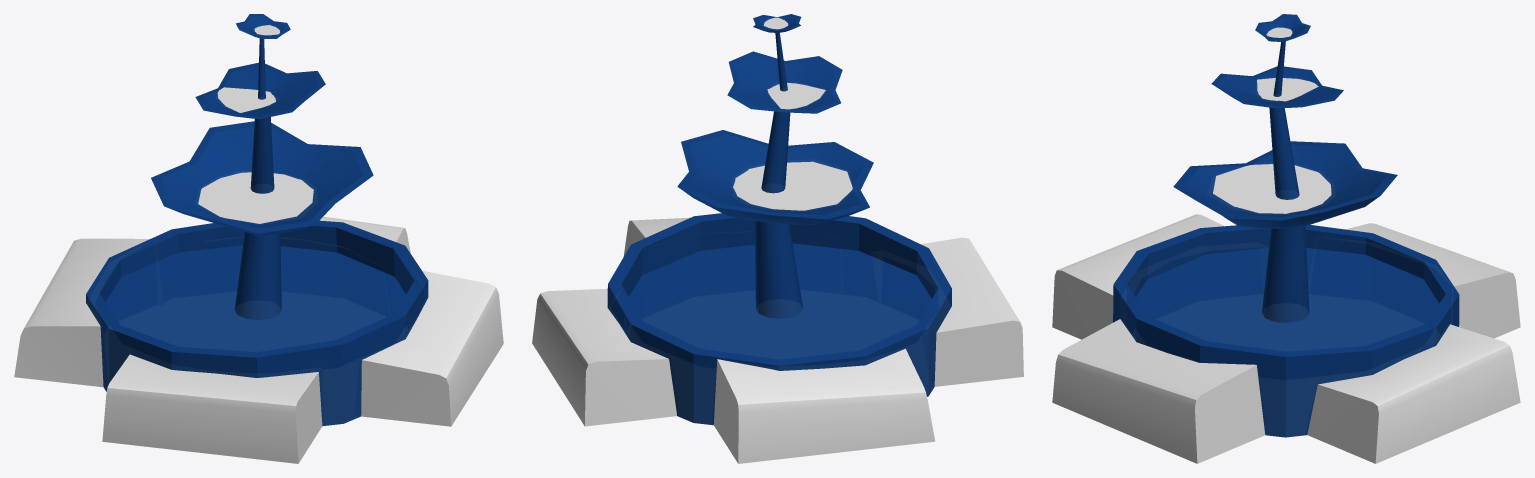
The model's file is fountain.FBX.
The picture shows the model from 3 angles, left to right: view 1: azimuth 30°, elevation 25°; view 2: azimuth 150°, elevation 25°; view 3: azimuth 270°, elevation 25°; orthographic projection.
Parts seen in each view (by area): view 1: Cylinder003, Box044, Box043, Box042, Cylinder004, Cylinder005, Box045; view 2: Cylinder003, Box042, Box045, Box044, Cylinder004, Cylinder005, Box043; view 3: Cylinder003, Box043, Box045, Box044, Box042, Cylinder004, Cylinder005.
Boxes of the visible parts, x1=… form: Cylinder003: x1=86, y1=14, x2=428, y2=426; Box044: x1=102, y1=354, x2=322, y2=463; Box043: x1=361, y1=270, x2=503, y2=426; Box042: x1=14, y1=238, x2=149, y2=387; Cylinder004: x1=198, y1=172, x2=313, y2=223; Cylinder005: x1=217, y1=87, x2=275, y2=112; Box045: x1=320, y1=216, x2=410, y2=253; Cylinder003: x1=607, y1=14, x2=951, y2=425; Box042: x1=713, y1=348, x2=935, y2=463; Box045: x1=532, y1=288, x2=676, y2=426; Box044: x1=921, y1=237, x2=1023, y2=386; Cylinder004: x1=733, y1=161, x2=852, y2=210; Cylinder005: x1=767, y1=82, x2=825, y2=109; Box043: x1=623, y1=217, x2=689, y2=256; Cylinder003: x1=1113, y1=14, x2=1459, y2=437; Box043: x1=1052, y1=319, x2=1265, y2=463; Box045: x1=1307, y1=324, x2=1520, y2=463; Box044: x1=1052, y1=214, x2=1224, y2=339; Box042: x1=1345, y1=223, x2=1520, y2=338; Cylinder004: x1=1213, y1=164, x2=1331, y2=213; Cylinder005: x1=1257, y1=78, x2=1318, y2=101.
Size of the model in its own units: 18.61 by 14.96 by 18.61.
